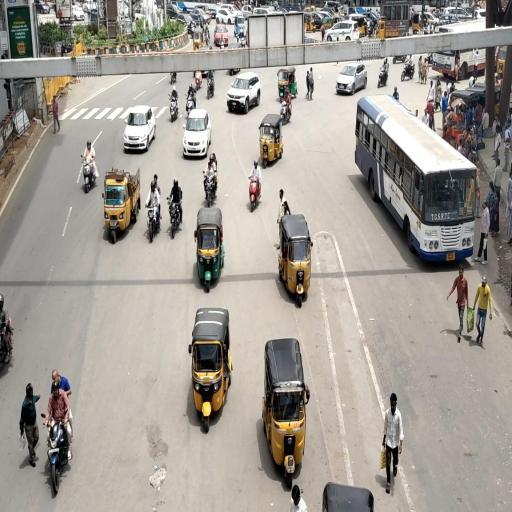no helmet: (41, 348, 96, 496), (71, 134, 114, 204), (205, 152, 219, 206)
